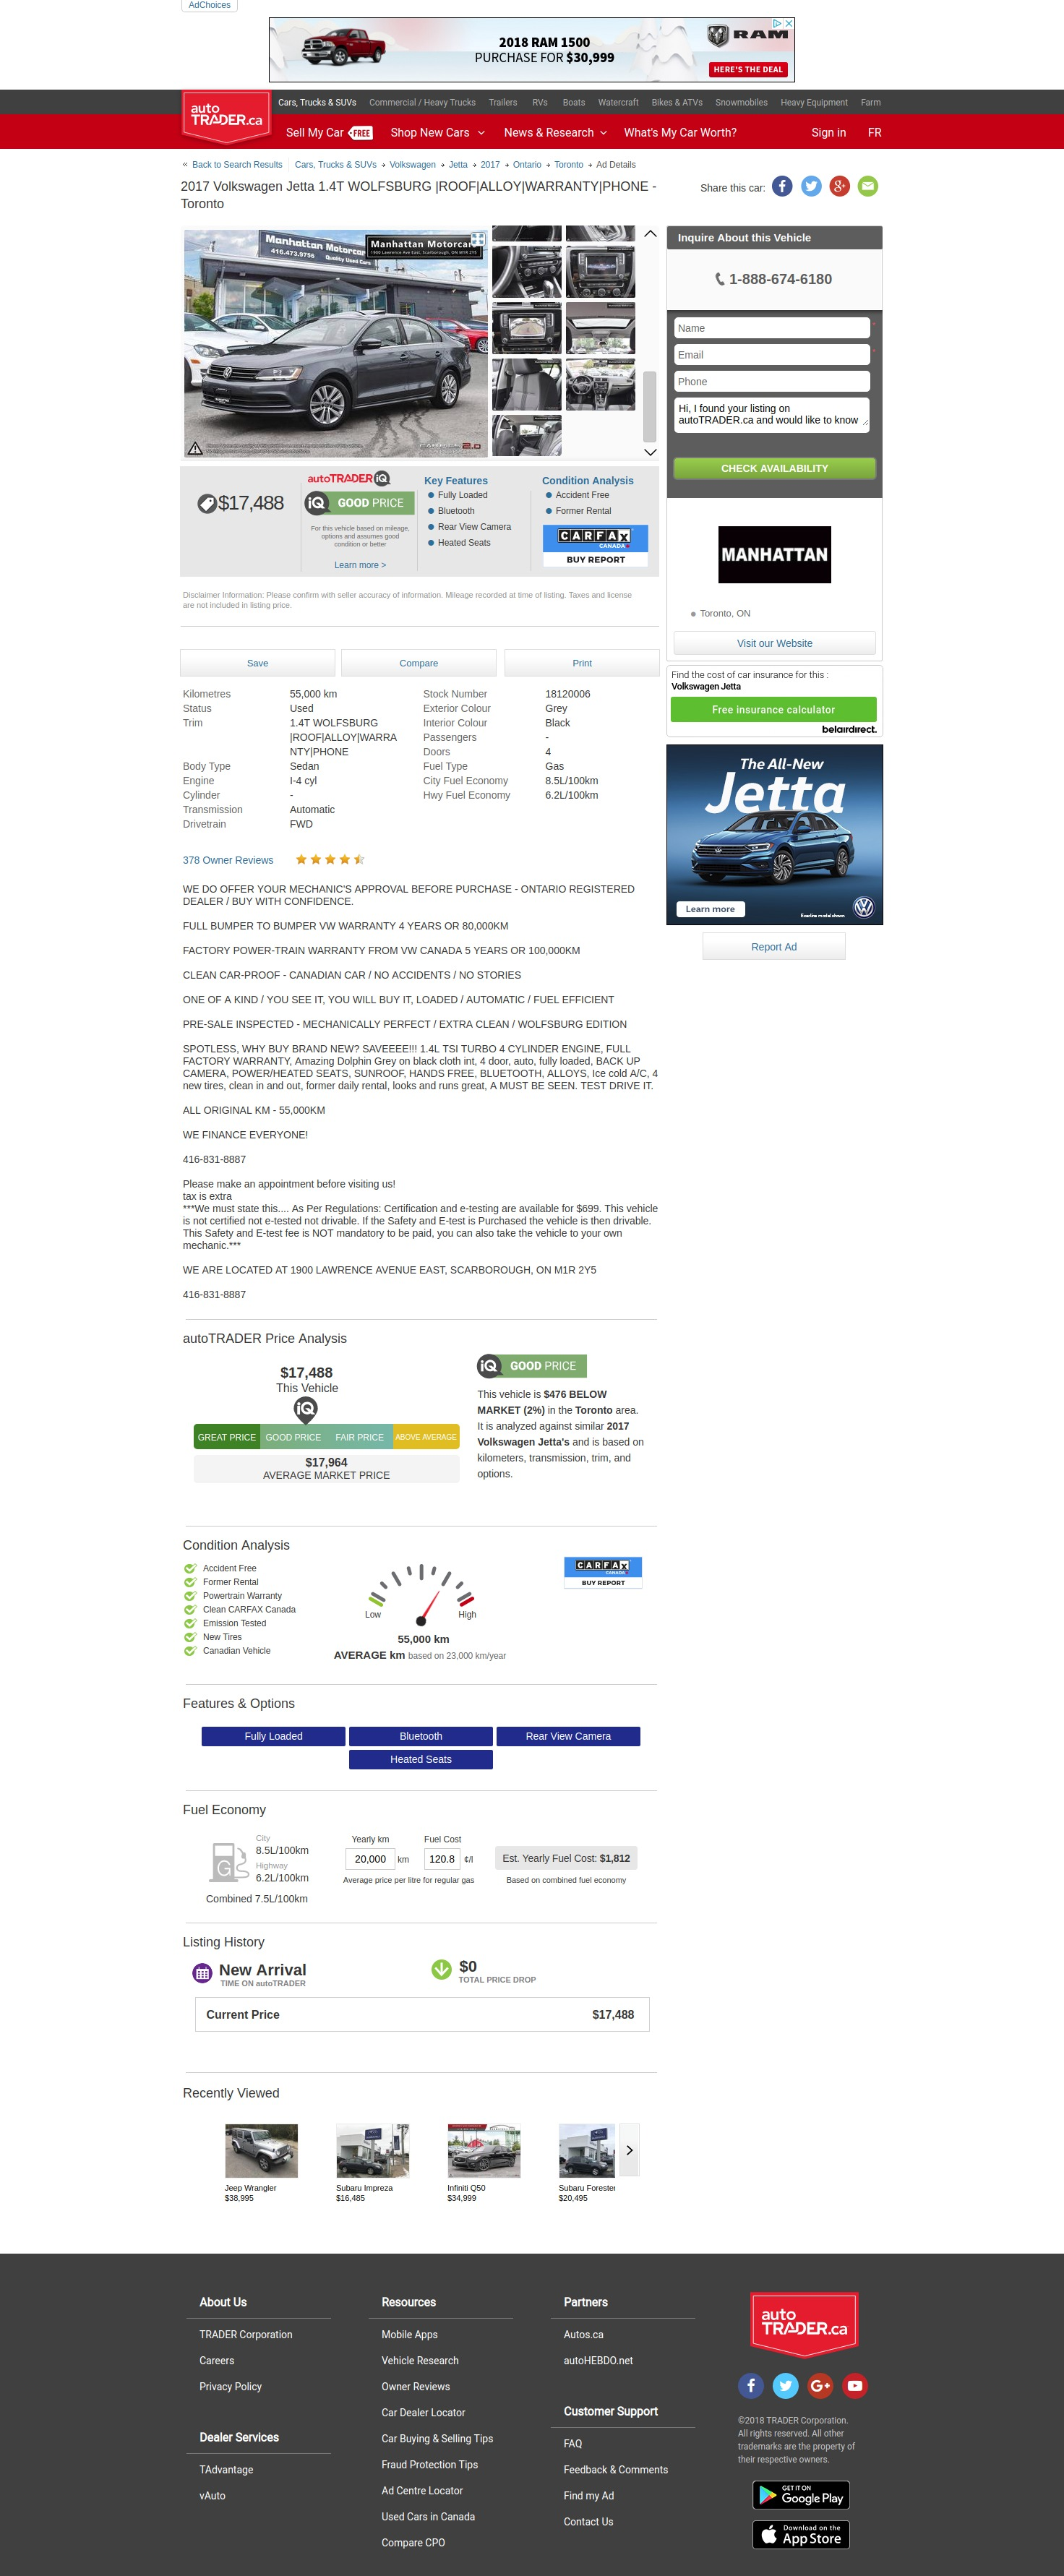car: (644, 447, 658, 458)
